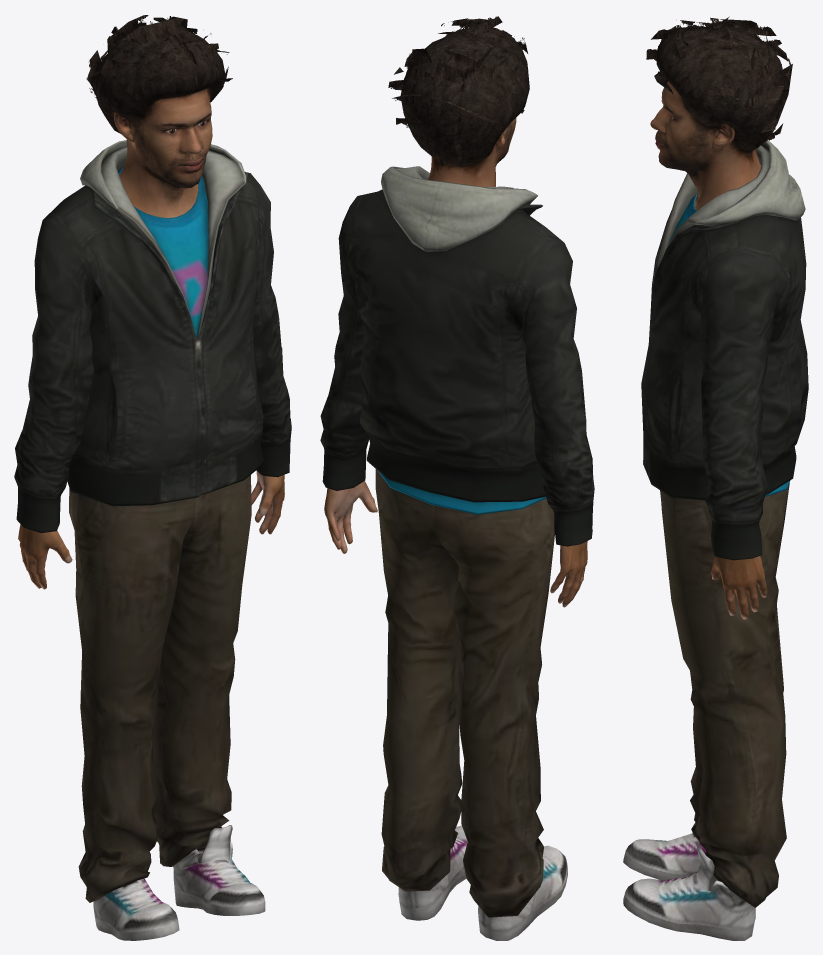
File: rocketbox-m04.glb
3 renders of one model, left to right at view 1: azimuth 30°, elevation 25°; view 2: azimuth 150°, elevation 25°; view 3: azimuth 270°, elevation 25°, orthographic.
Parts seen in each view (by area): view 1: rocketbox-m04; view 2: rocketbox-m04; view 3: rocketbox-m04.
Part boxes in pixels (x1=…): rocketbox-m04: x1=14, y1=15, x2=291, y2=940; rocketbox-m04: x1=320, y1=16, x2=594, y2=940; rocketbox-m04: x1=623, y1=16, x2=808, y2=940.
Bounding box in the file's own units: 0.5967 × 1.9 × 0.3573.
1 material, 1 textured.
